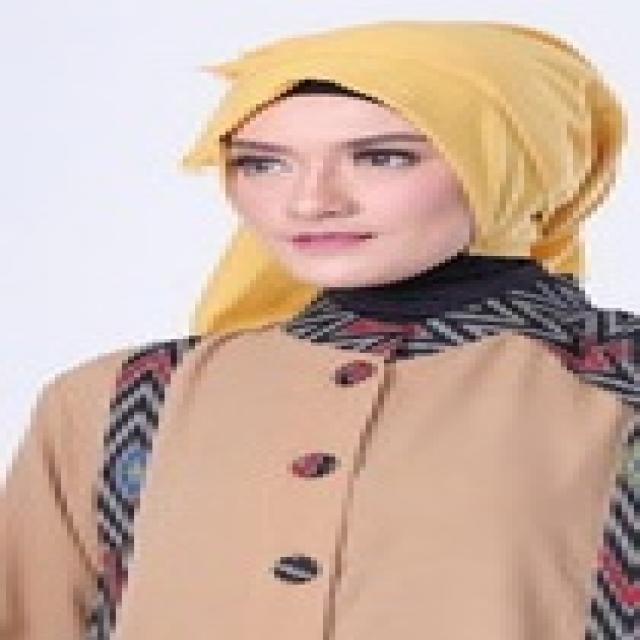head: (192, 39, 578, 297)
